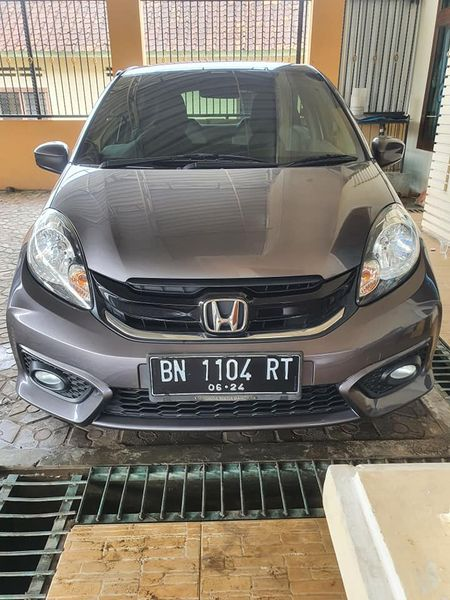plate: (145, 352, 304, 399)
